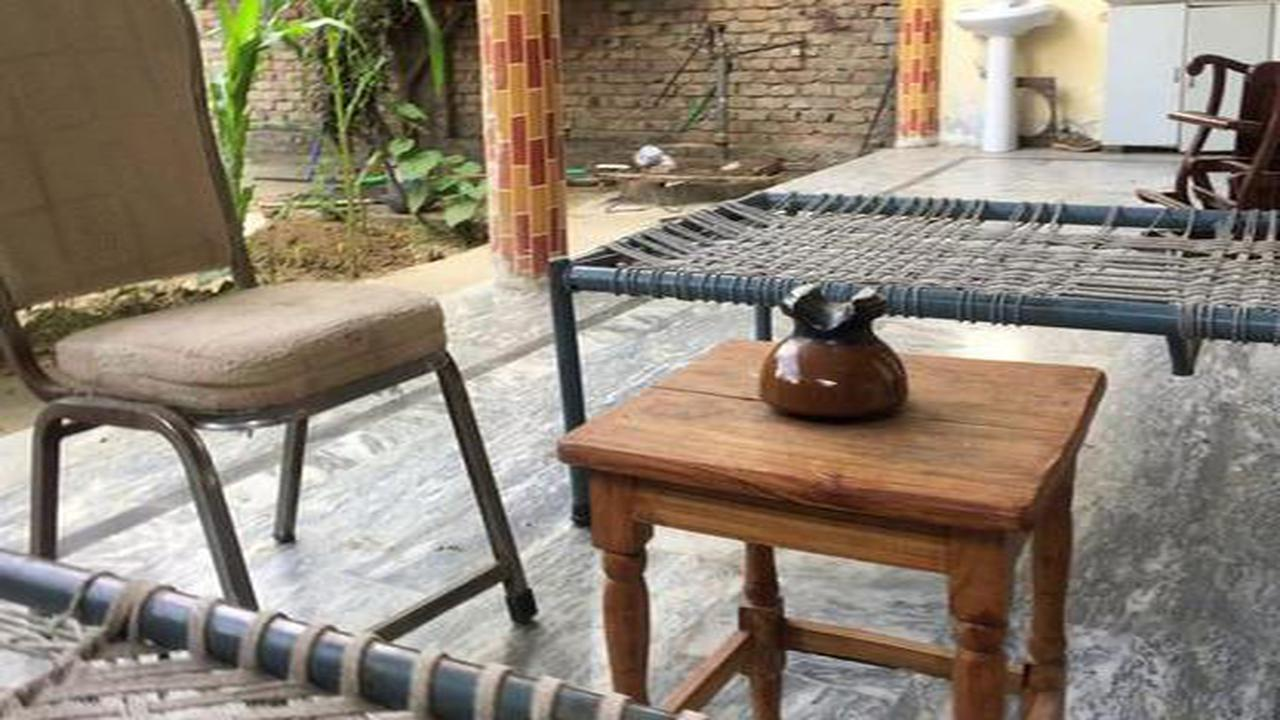insulator_pin: (739, 264, 930, 435)
